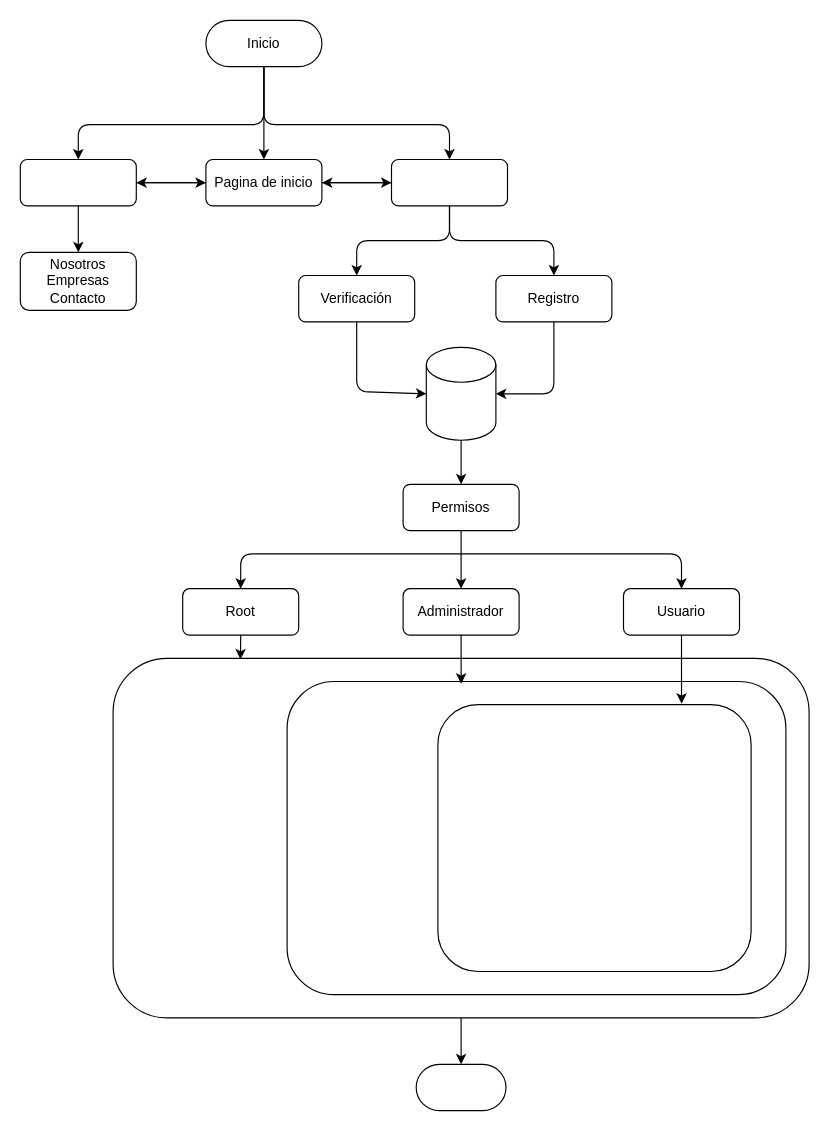
The diagram is 829 pixels wide and 1131 high, and some of its shapes have lost their labels. Each missing label, with the centre of its shape:
Acerca de: point 77,182
Base de Datos: point 460,393
Final: point 460,1087
Inicio de Sesión: point 448,182
